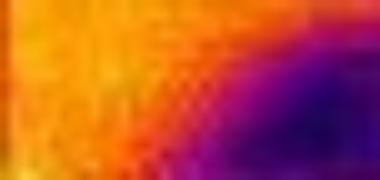Shadow: (162, 41, 380, 179)
